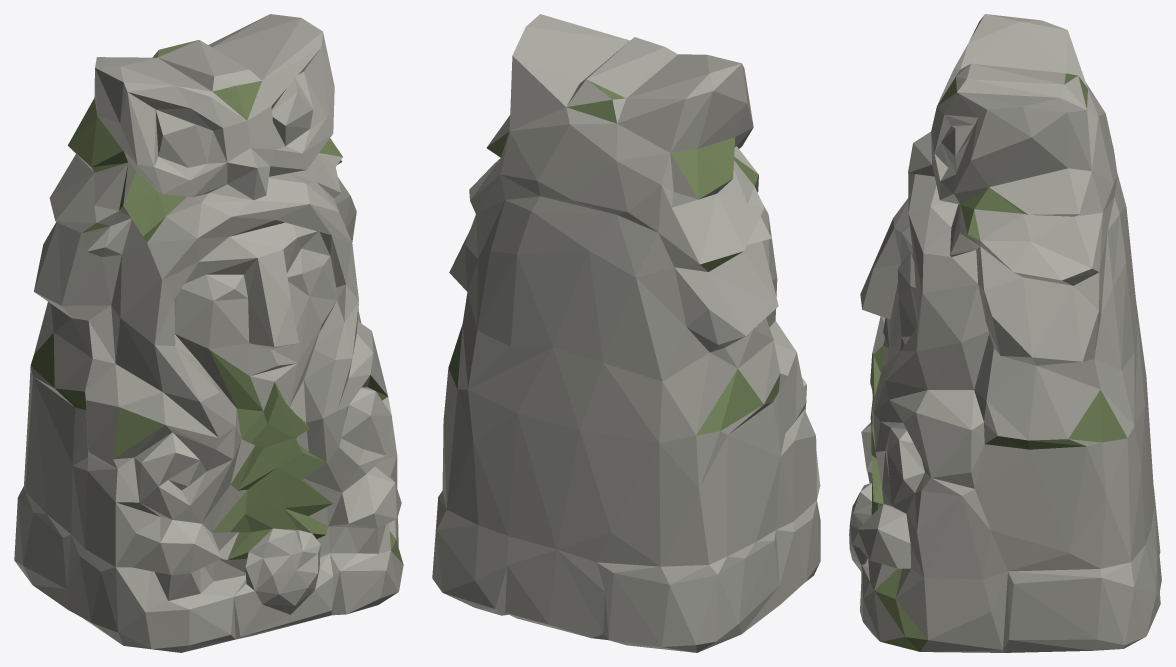
The model's file is prop_forest_statue.glb.
3 renders of one model, left to right at view 1: azimuth 30°, elevation 25°; view 2: azimuth 150°, elevation 25°; view 3: azimuth 270°, elevation 25°, orthographic.
Visible parts, largest first — view 1: PropForestStatueBody; view 2: PropForestStatueBody; view 3: PropForestStatueBody.
Boxes of the visible parts, x1,y1,x2,y2 form: PropForestStatueBody: (14, 14, 403, 652); PropForestStatueBody: (432, 14, 820, 652); PropForestStatueBody: (849, 14, 1161, 652).
Bounding box in the file's own units: 0.5917 × 1 × 0.5373.
